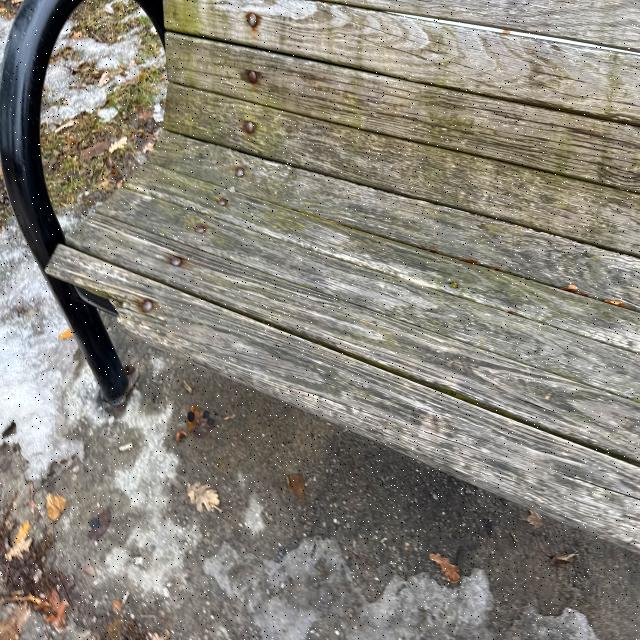Bench: (3, 6, 633, 412)
